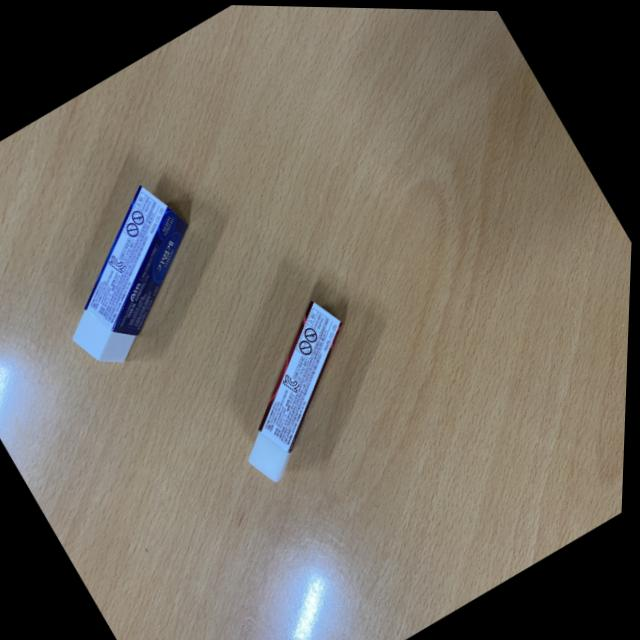blue: (15, 162, 243, 385)
red: (189, 285, 405, 494)
